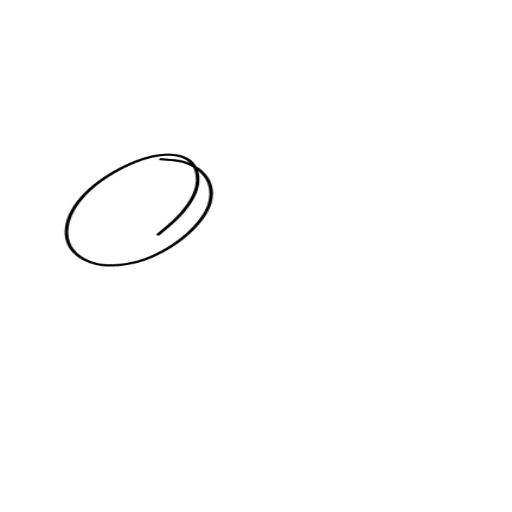circle: (63, 150, 219, 269)
